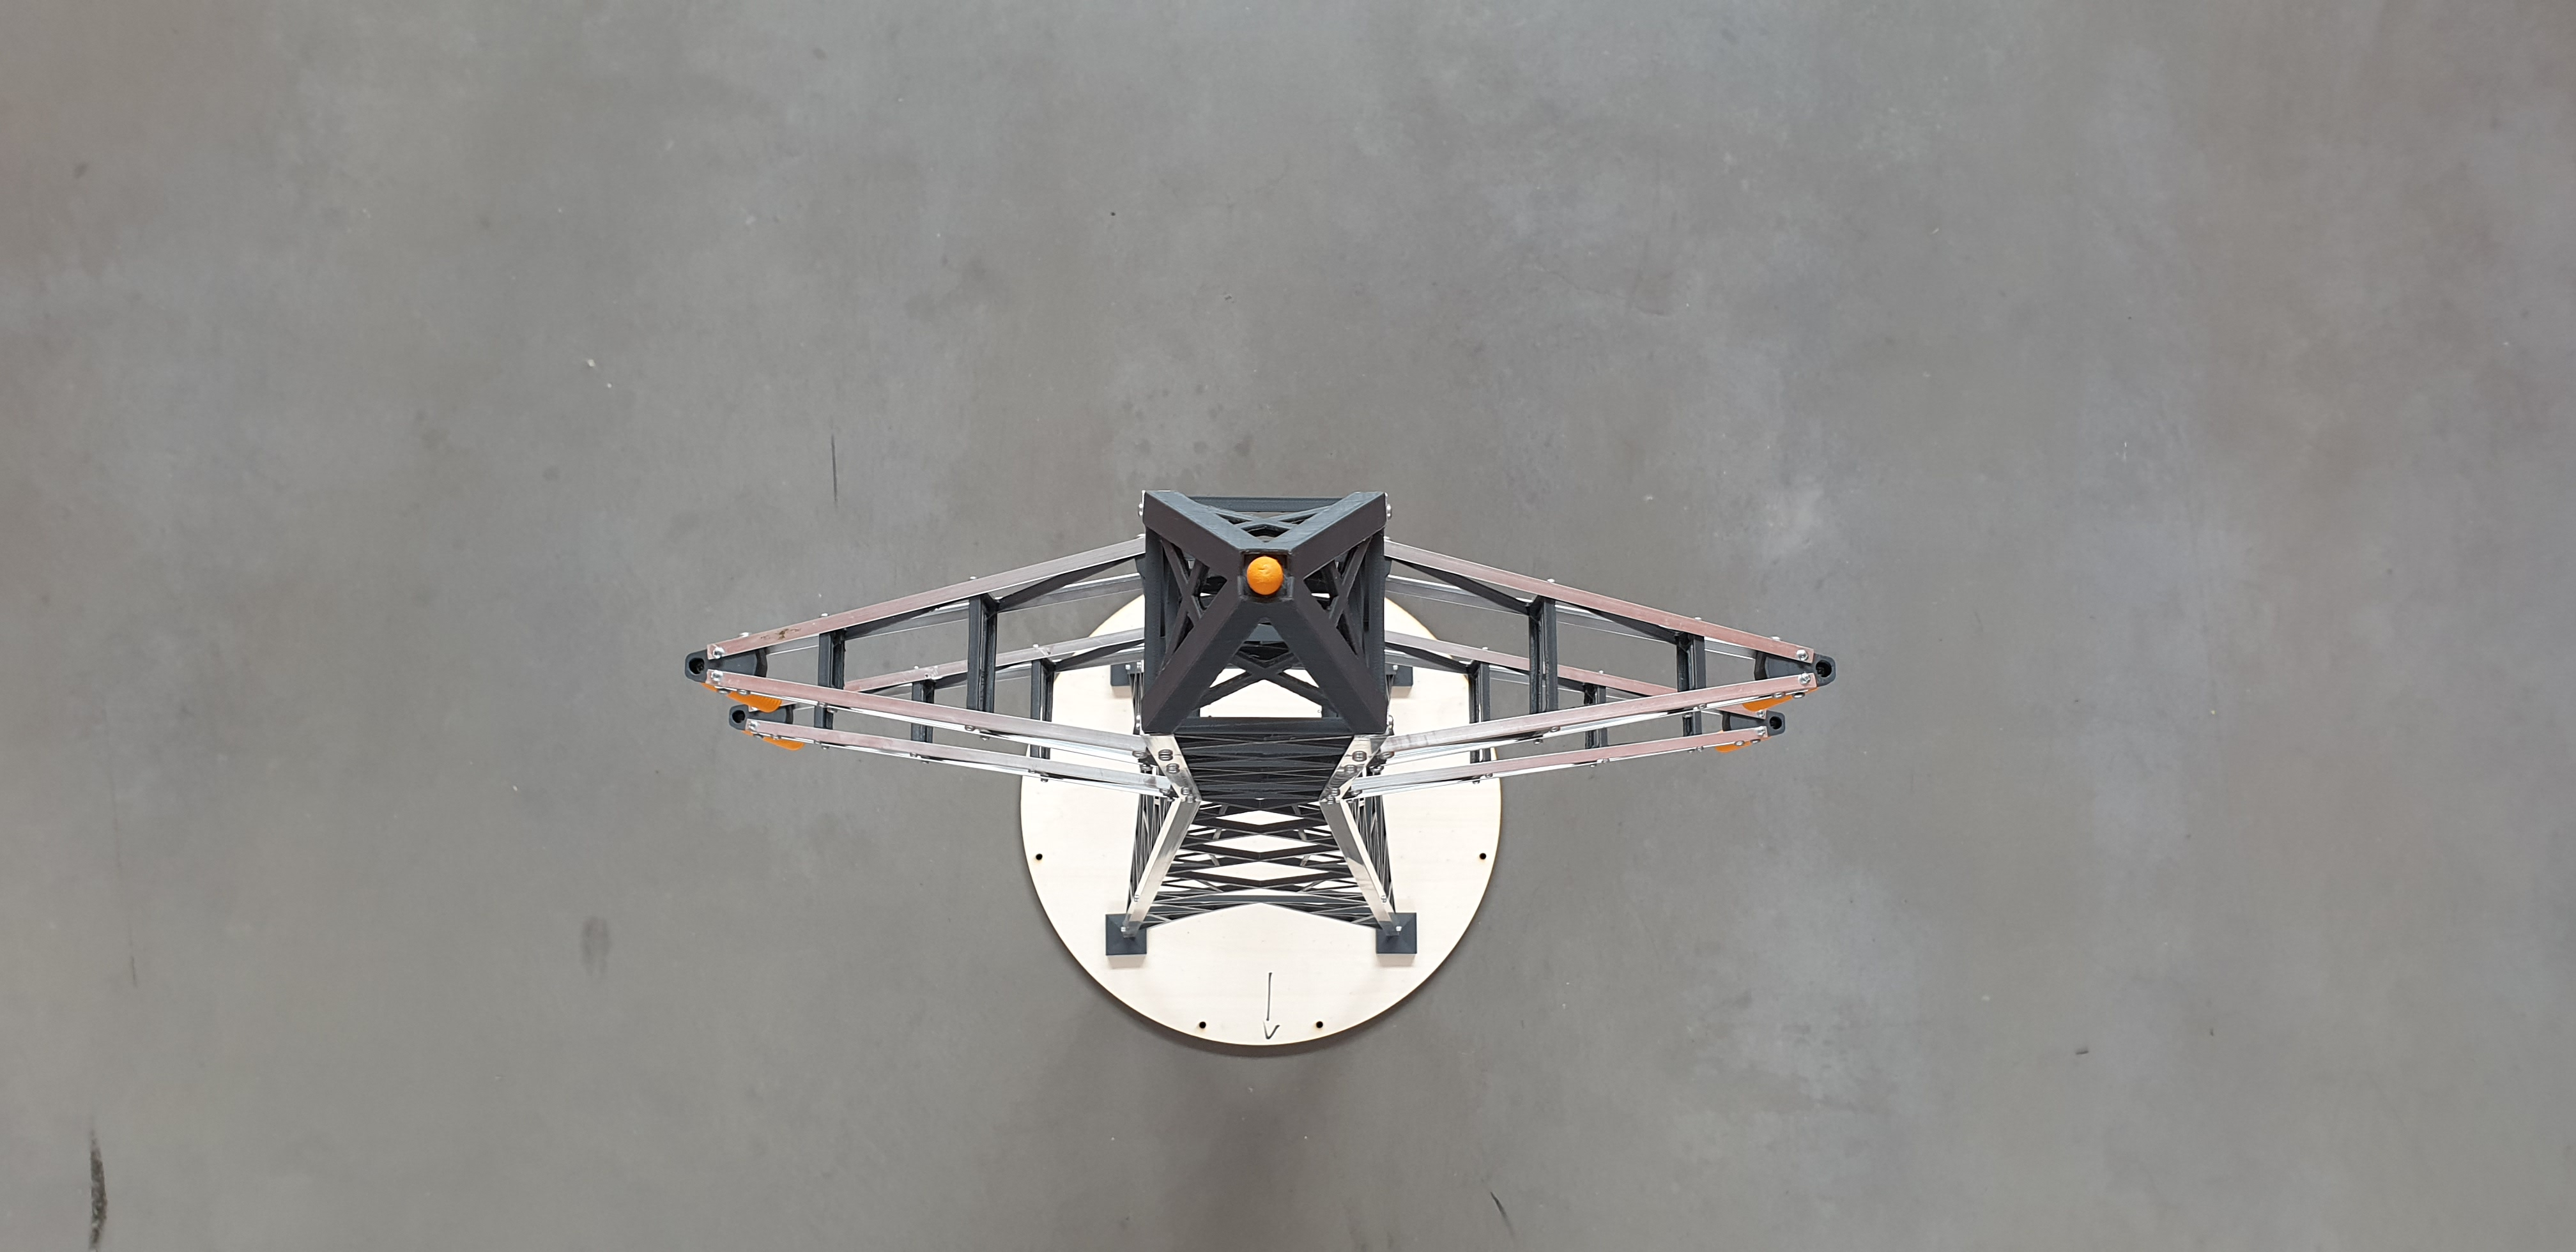pylon_phy: (678, 486, 1843, 772)
